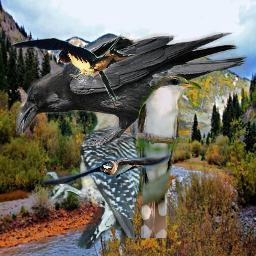Crow: (16, 32, 248, 146)
Cuckoo: (136, 74, 202, 238)
Swallow: (9, 31, 157, 108), (42, 151, 171, 184)
Woodpecker: (46, 81, 145, 249)
